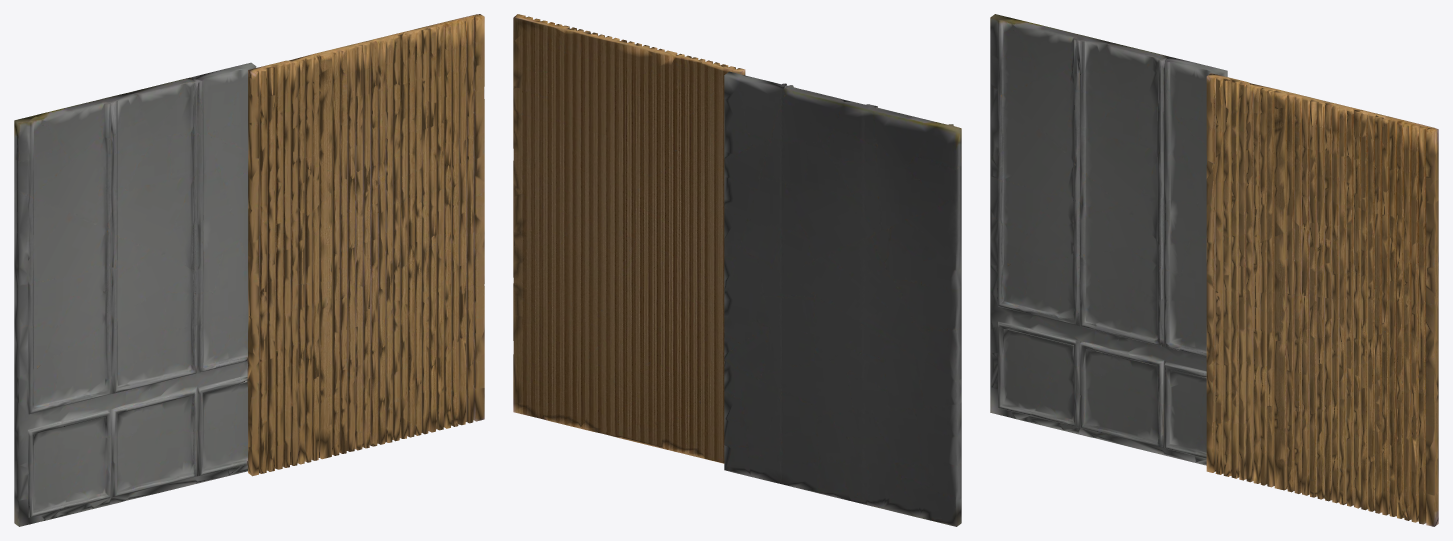
File: Hotel Wall Panel Grey.glb
The picture shows the model from 3 angles, left to right: view 1: azimuth 30°, elevation 25°; view 2: azimuth 150°, elevation 25°; view 3: azimuth 330°, elevation 25°; orthographic projection.
Parts seen in each view (by area): view 1: Mesh_0.007; view 2: Mesh_0.007; view 3: Mesh_0.007.
Boxes of the visible parts, x1,y1,x2,y2 form: Mesh_0.007: (14, 14, 484, 526); Mesh_0.007: (513, 14, 961, 526); Mesh_0.007: (990, 14, 1438, 526).
Size of the model in its own units: 2.38 by 2 by 0.1033.
1 material, 1 textured.
